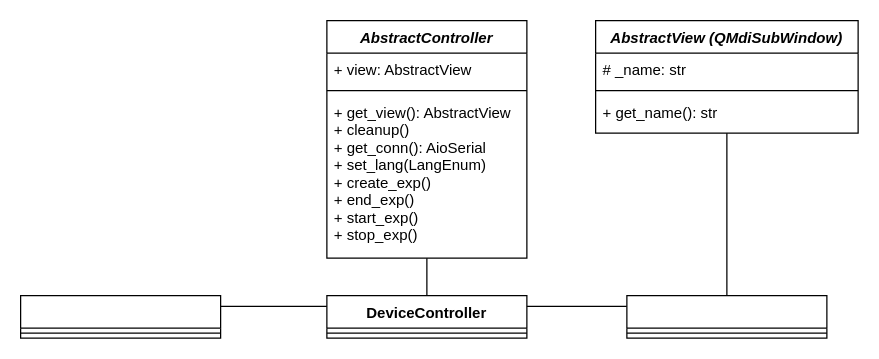
This 879x359 diagram has some shape labels left out. Here are the shapes that lost their labels. From the top down, the centre of each, then its label:
At (x=120, y=316): "DeviceModel".
At (x=726, y=316): "DeviceView".
